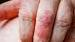plaque psoriasis: (38, 13, 50, 38)
